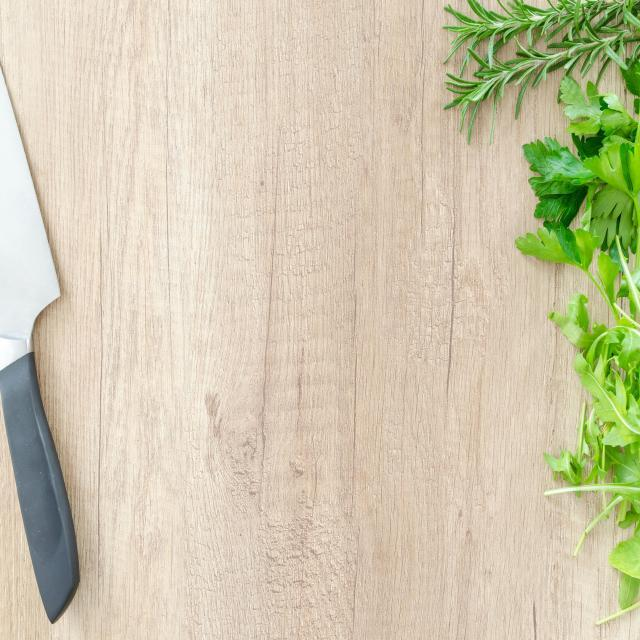Knife: (0, 66, 79, 624)
